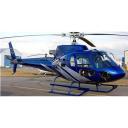helicopter: (2, 33, 128, 97)
